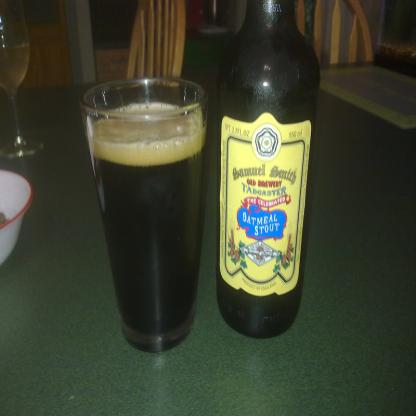drinking: (79, 77, 209, 353), (217, 0, 321, 339), (0, 0, 44, 158)
